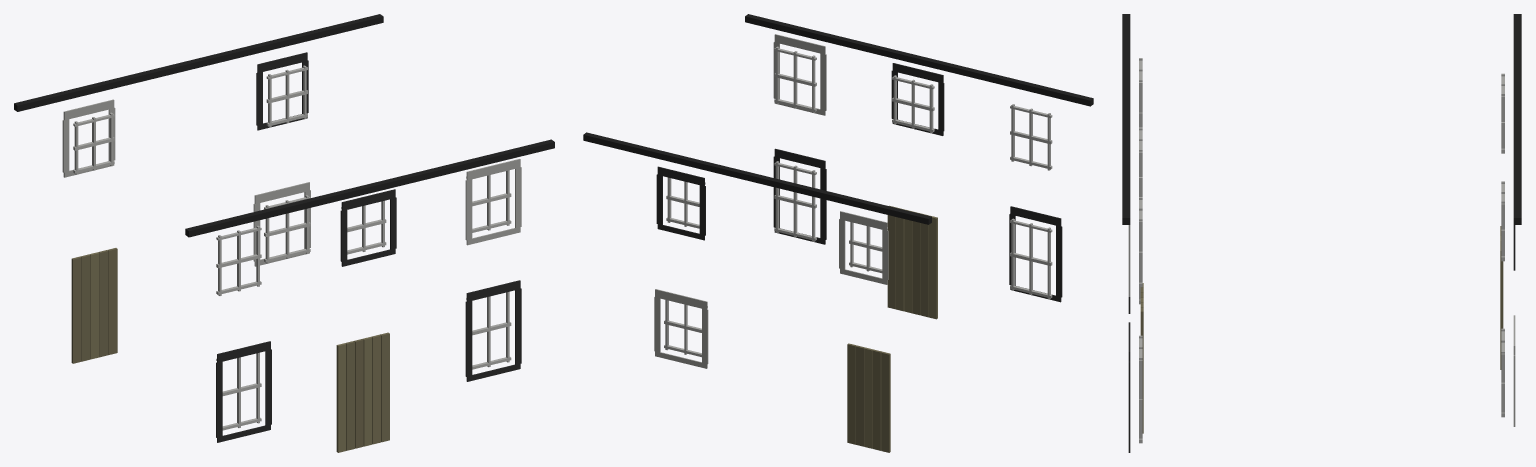
The model's file is SM_Bld_069_Wood.glb.
The picture shows the model from 3 angles, left to right: view 1: azimuth 30°, elevation 25°; view 2: azimuth 150°, elevation 25°; view 3: azimuth 270°, elevation 25°; orthographic projection. The views are drawn at different scales.
Visible parts, largest first — view 1: SM_Bld_069_Wood; view 2: SM_Bld_069_Wood; view 3: SM_Bld_069_Wood.
Part boxes in pixels (x1=…): SM_Bld_069_Wood: x1=14, y1=14, x2=554, y2=452; SM_Bld_069_Wood: x1=583, y1=14, x2=1093, y2=452; SM_Bld_069_Wood: x1=1122, y1=14, x2=1521, y2=452.
Size of the model in its own units: 7.35 by 5.1 by 6.08.
